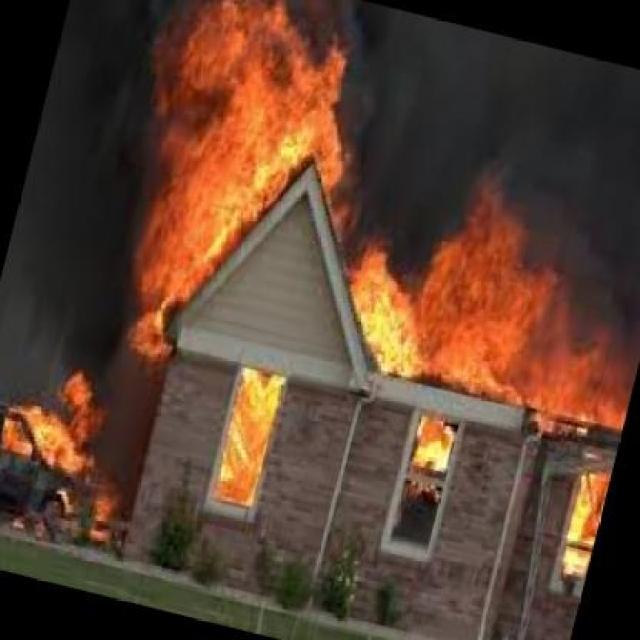Fire: (360, 175, 634, 430), (147, 11, 345, 292), (0, 362, 134, 532), (214, 350, 296, 520), (564, 464, 618, 572), (408, 406, 460, 478)
Smoke: (333, 28, 635, 165), (22, 56, 136, 348)
